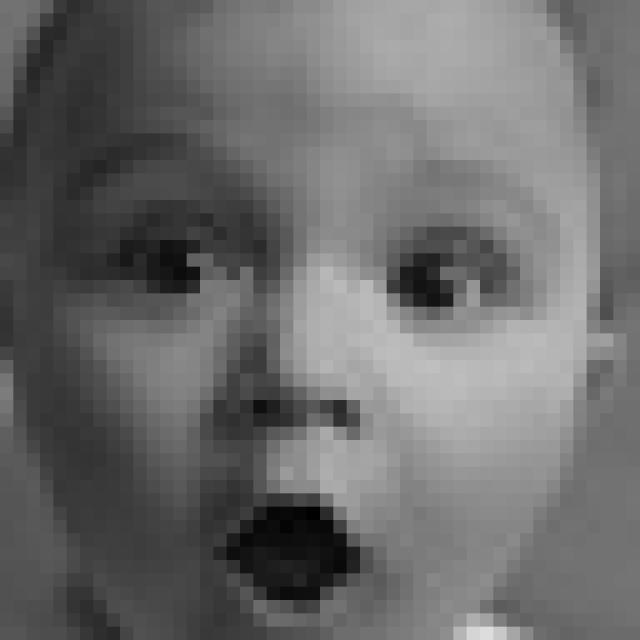surprise: (69, 123, 558, 640)
